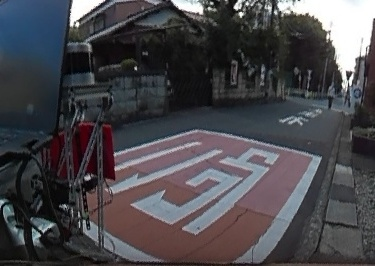person: (325, 80, 336, 109)
